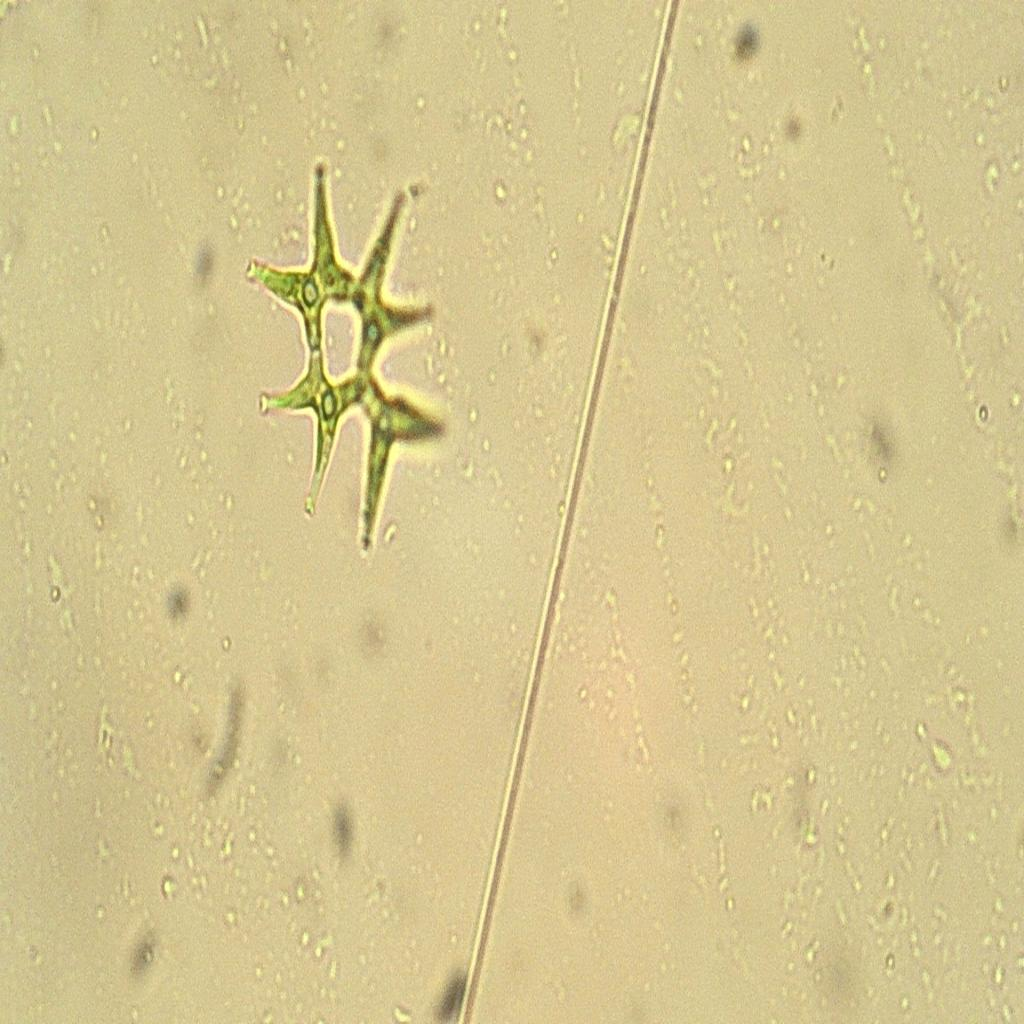Pediastrum_75FI: (234, 156, 470, 562)
